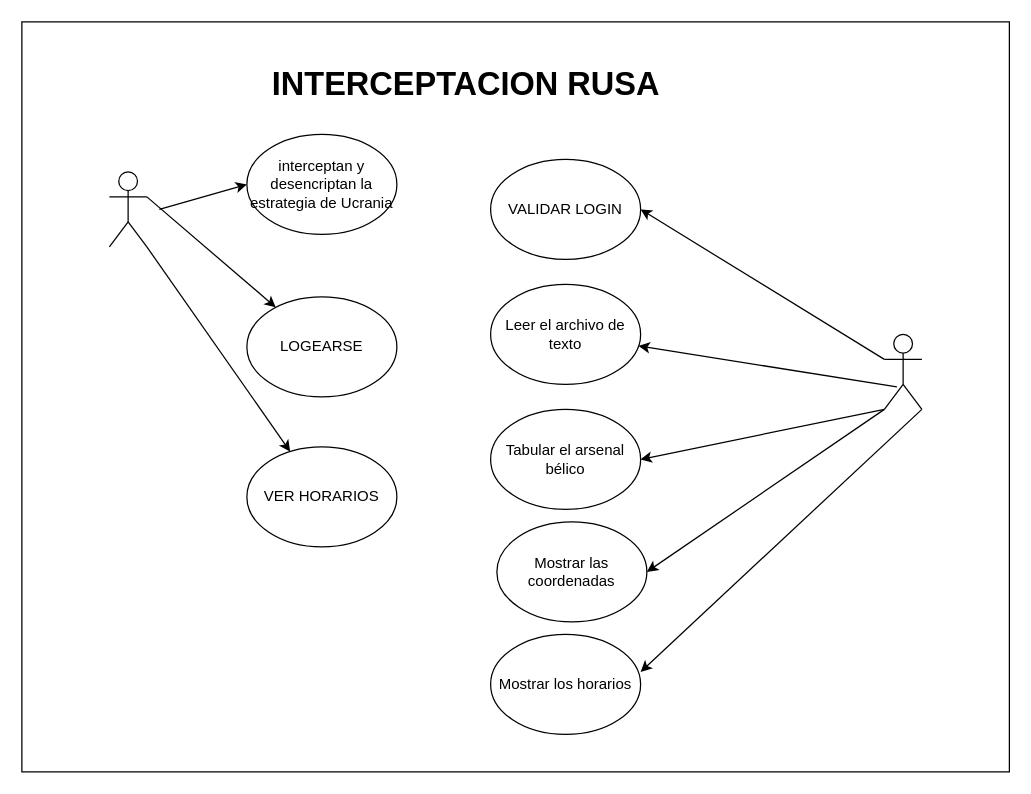
The diagram is 1031 pixels wide and 794 high, and some of its shapes have lost their labels. The shapes that lost their labels are listed below. From the top down, each one's box as (x1, y1, x2, y2) in pixels, then its label:
(108, 171, 147, 247): Rusia, Hackers
(883, 333, 922, 409): SISTEMA
